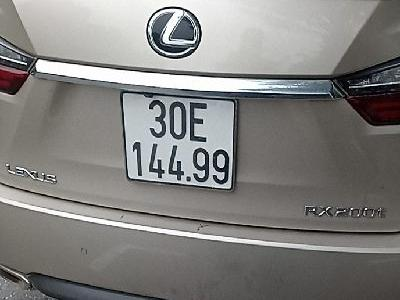lisence: (118, 87, 240, 194)
